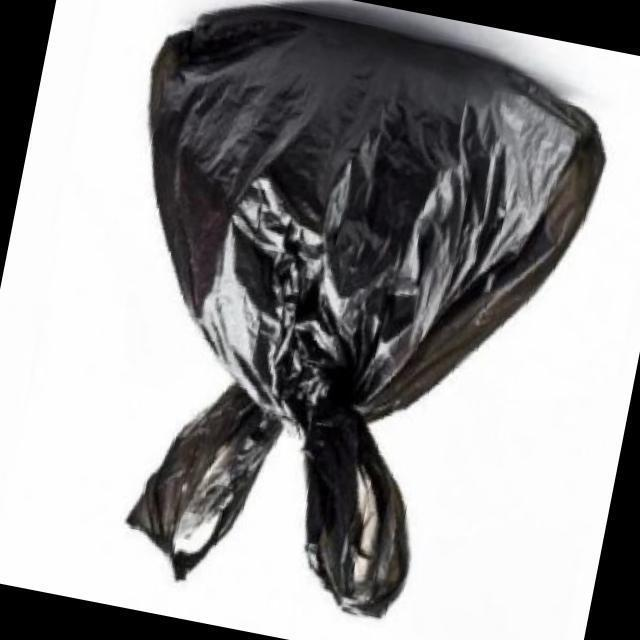Garbage_Bag: (45, 0, 629, 640)
